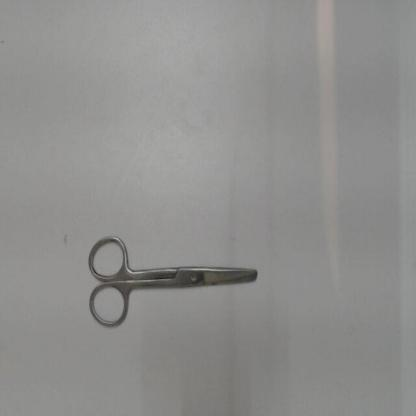Dressing Scissors: (79, 226, 266, 335)
